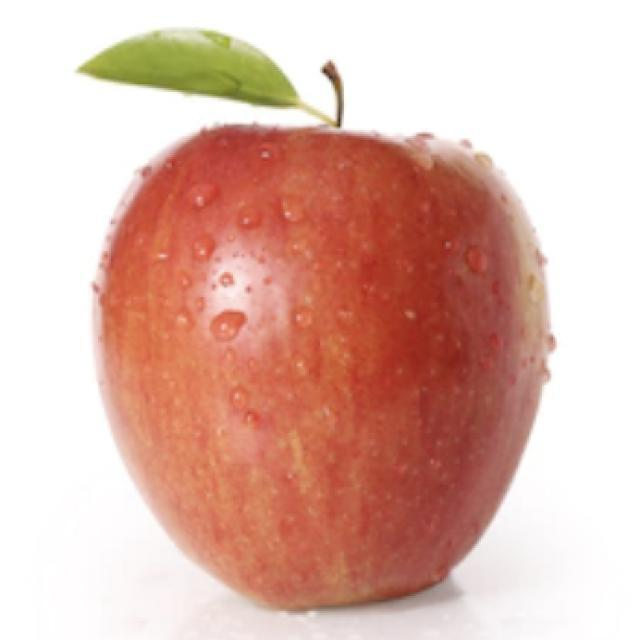Fresh Apple: (89, 115, 558, 613)
